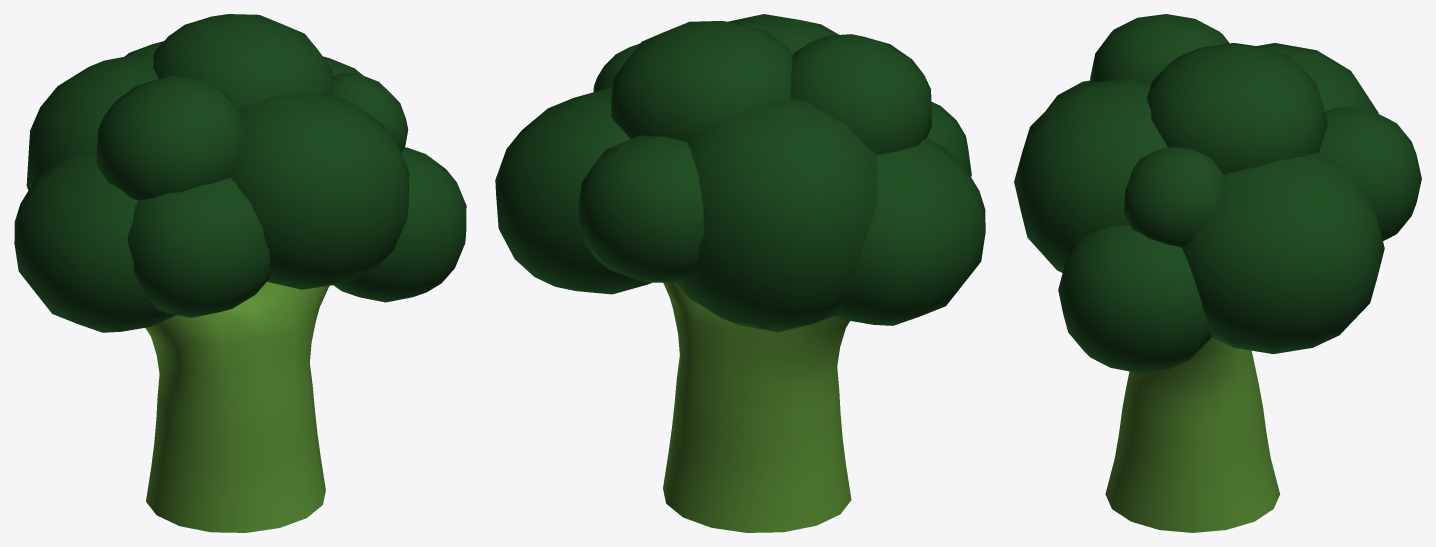
Rendered from broccoli.glb.
The picture shows the model from 3 angles, left to right: view 1: azimuth 30°, elevation 25°; view 2: azimuth 150°, elevation 25°; view 3: azimuth 270°, elevation 25°; orthographic projection. The views are drawn at different scales.
Parts seen in each view (by area): view 1: Circle.2199; view 2: Circle.2199; view 3: Circle.2199.
Part boxes in pixels (box(x1,y1,x2,y2)): Circle.2199: box(14, 14, 466, 532); Circle.2199: box(495, 14, 985, 532); Circle.2199: box(1014, 14, 1421, 532).
Size of the model in its own units: 2.11 by 2.27 by 1.87.
Materials: 1 (1 with a texture image).
